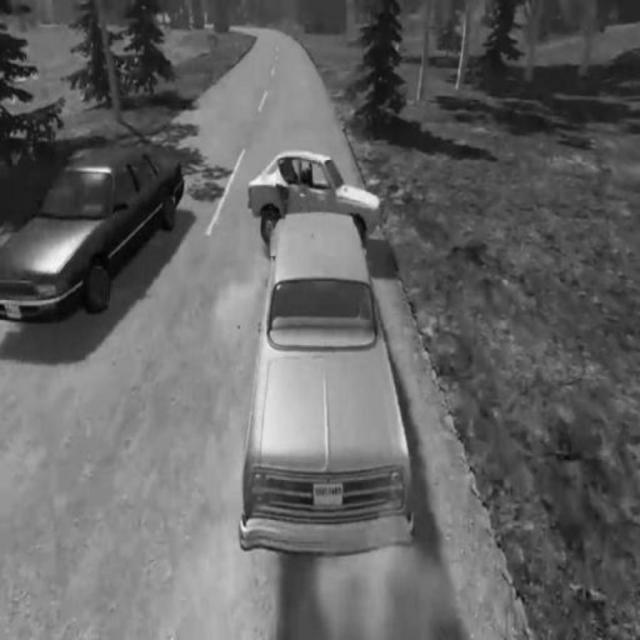accident: (246, 150, 416, 558)
vehicle: (1, 135, 183, 323)
